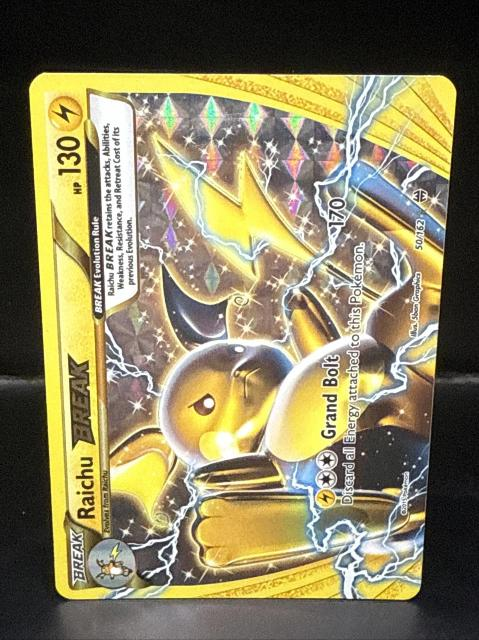Card: (23, 68, 462, 605)
Name: (62, 343, 101, 531)
